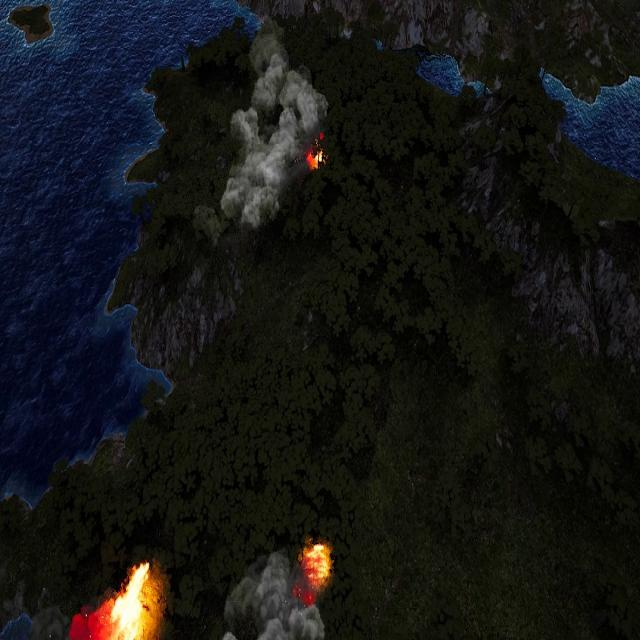fire: (110, 559, 152, 638), (302, 544, 332, 588), (307, 148, 324, 171)
smoke: (217, 32, 329, 234), (216, 547, 329, 638), (33, 599, 113, 640)
